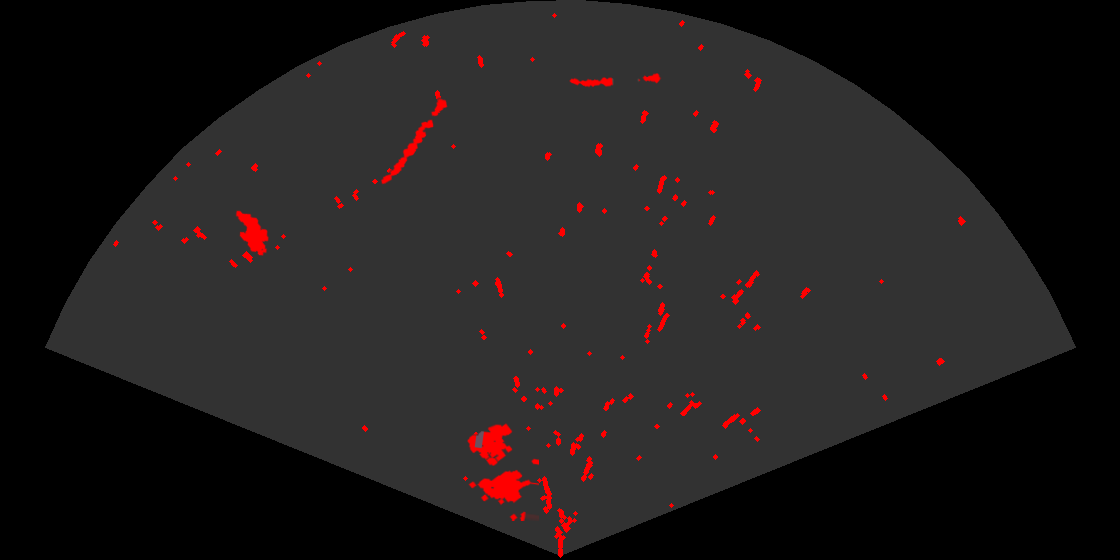AUV: (234, 209, 271, 257)
cage: (466, 422, 539, 521)
chain: (379, 97, 449, 186), (568, 72, 662, 89)
